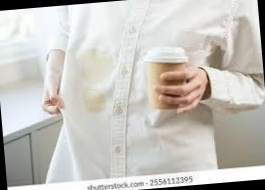coffee: (80, 51, 115, 83), (82, 85, 106, 114)
